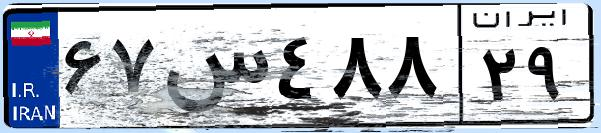2: (475, 38, 525, 113)
4: (270, 28, 330, 110)
6: (57, 26, 110, 100)
7: (110, 28, 158, 98)
8: (385, 28, 445, 110), (330, 28, 385, 110)
9: (525, 38, 570, 115)
س: (158, 20, 270, 120)
